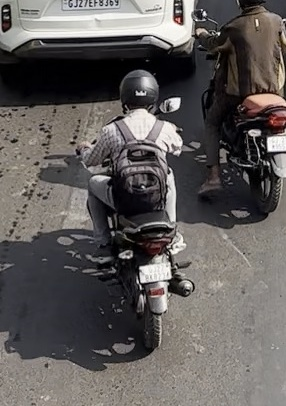BikeWithRider: (72, 66, 198, 351)
Helmet: (117, 67, 161, 113)
